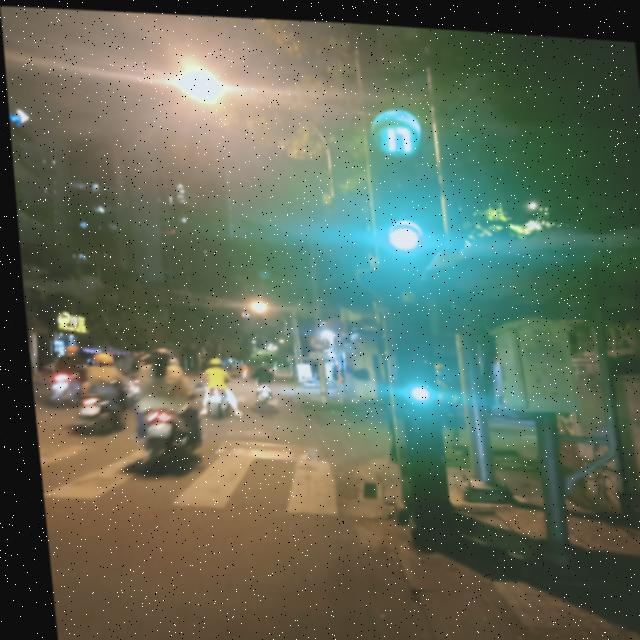Green: (362, 153, 425, 252), (387, 333, 439, 414)
